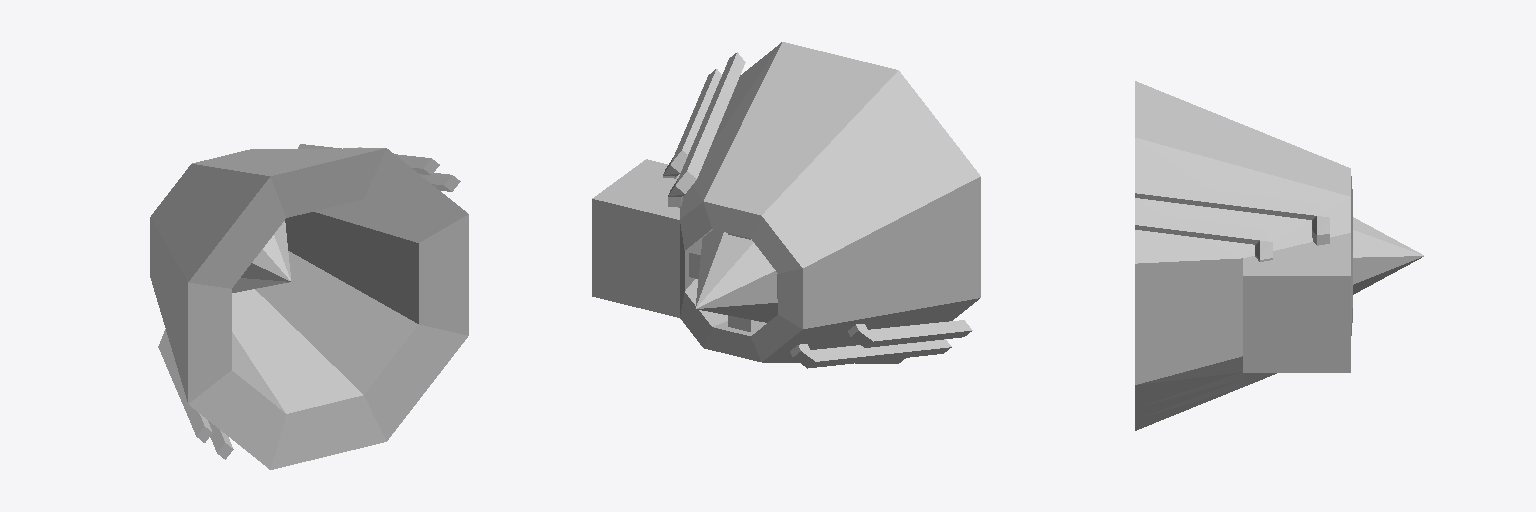
Rendered from steam_turbine_main.obj.
3 views of the same model, side by side, from view 1: azimuth 30°, elevation 25°; view 2: azimuth 150°, elevation 25°; view 3: azimuth 270°, elevation 25° (orthographic).
Parts seen in each view (by area): view 1: plane; view 2: plane; view 3: plane.
Part boxes in pixels (x1,y1,x2,y2): plane: (150,144,468,469); plane: (592,42,980,368); plane: (1135,81,1423,430).
Size of the model in its own units: 3 by 3 by 2.69.